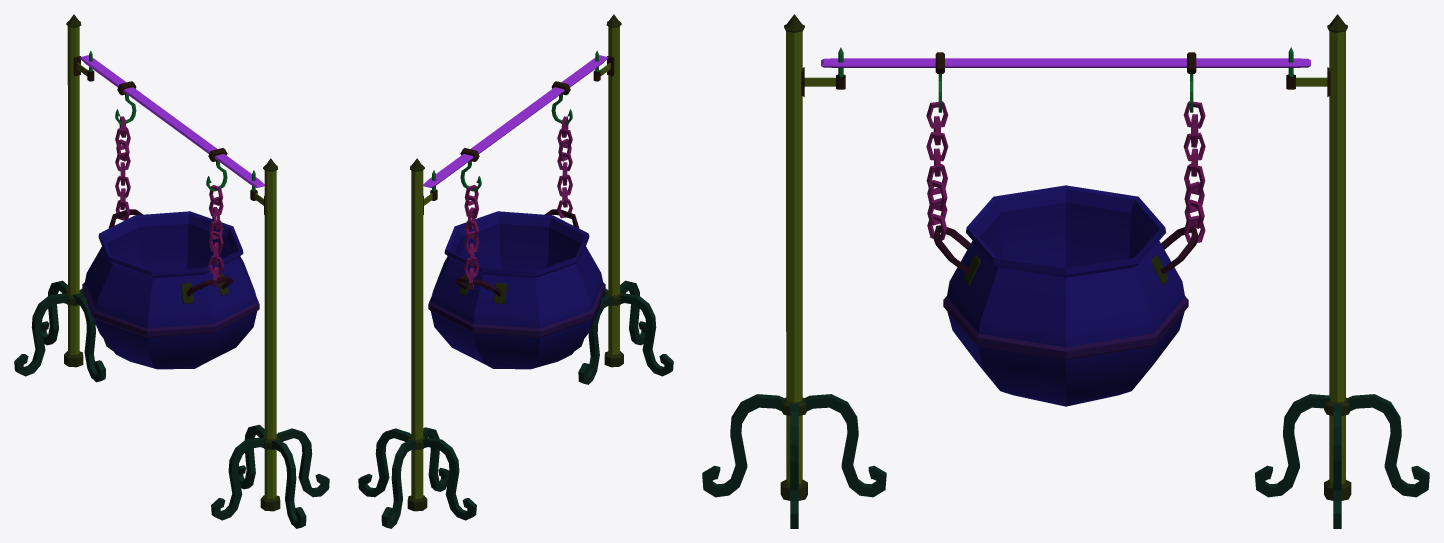
The model's file is MESH_CookingCauldron.fbx.
The picture shows the model from 3 angles, left to right: view 1: azimuth 30°, elevation 25°; view 2: azimuth 150°, elevation 25°; view 3: azimuth 270°, elevation 25°; orthographic projection. The views are drawn at different scales.
Visible parts, largest first — view 1: MESH_CookingCauldron; view 2: MESH_CookingCauldron; view 3: MESH_CookingCauldron.
Part boxes in pixels (left/top/right/bottom): MESH_CookingCauldron: left=14, top=14, right=329, bottom=528; MESH_CookingCauldron: left=358, top=14, right=673, bottom=528; MESH_CookingCauldron: left=702, top=14, right=1429, bottom=528.
Bounding box in the file's own units: 0.9106 × 1.98 × 2.7.
